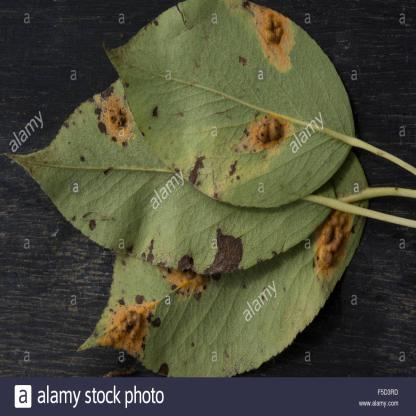Apple rust leaf: (97, 6, 382, 209), (84, 201, 396, 380), (21, 94, 353, 258)
